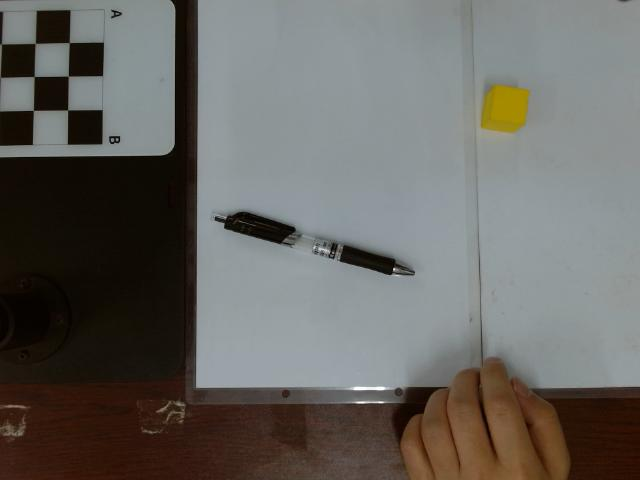PEN: (211, 202, 417, 288)
